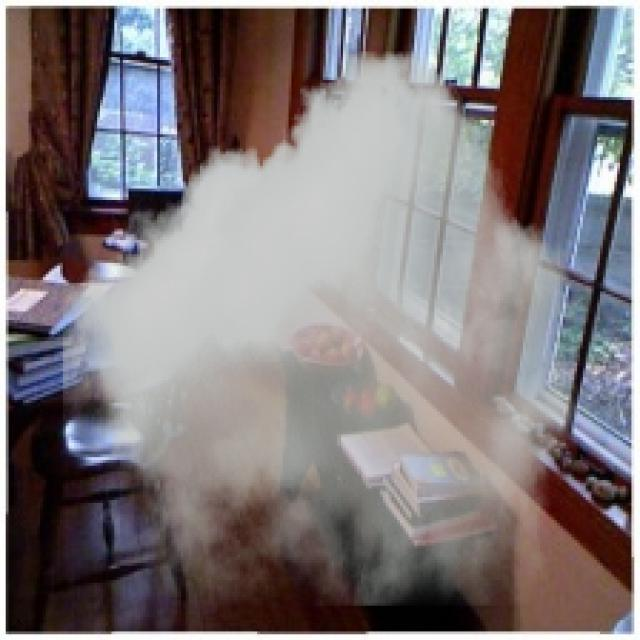smoke: (63, 51, 577, 606)
